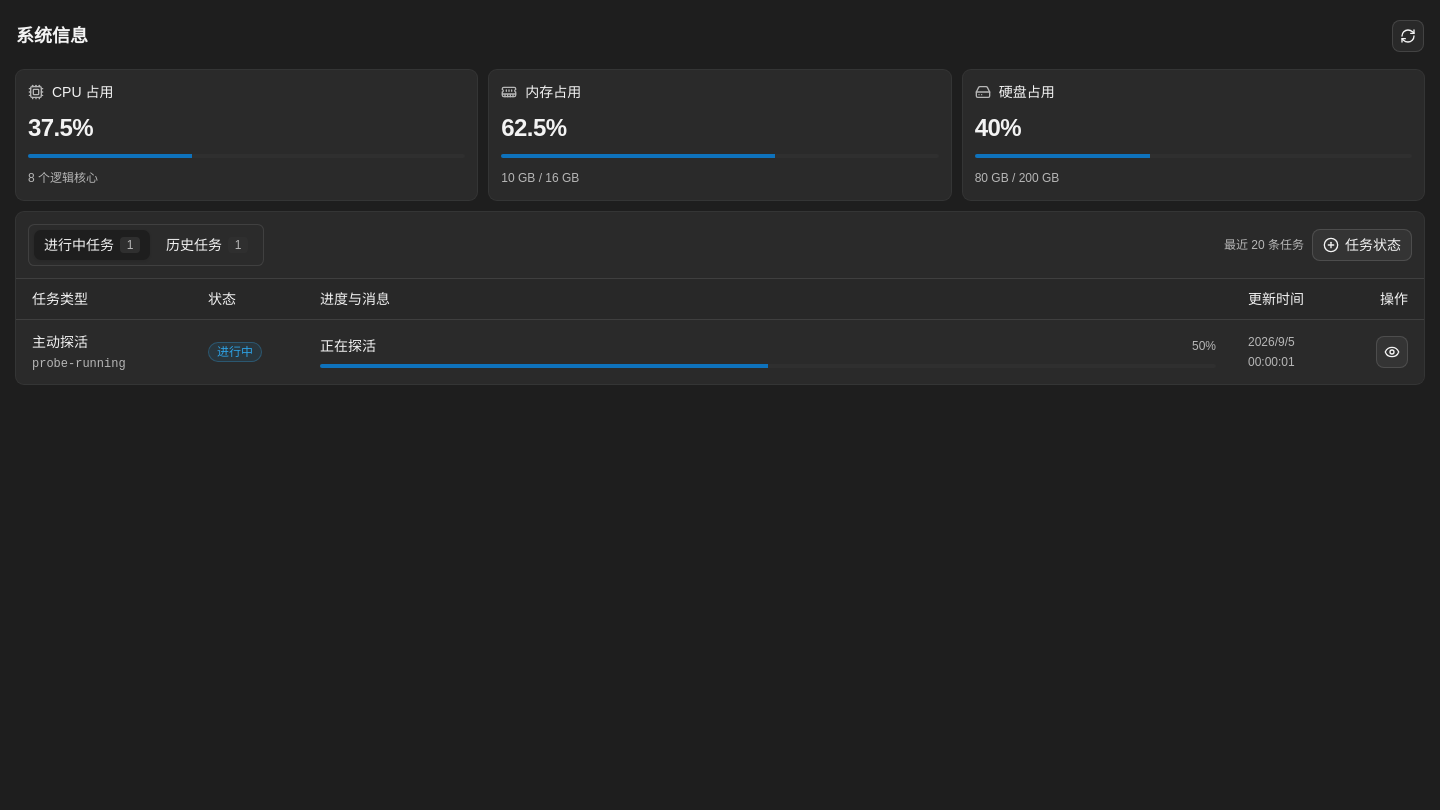
Test: 系统信息任务页面 › 可以查看平台模型探活的账号名称与分类结果
What coordinates should you click on to do the following:
click the tab "历史任务 1"
I would click on:
 (207, 245)
Its box is [155, 229, 259, 261].
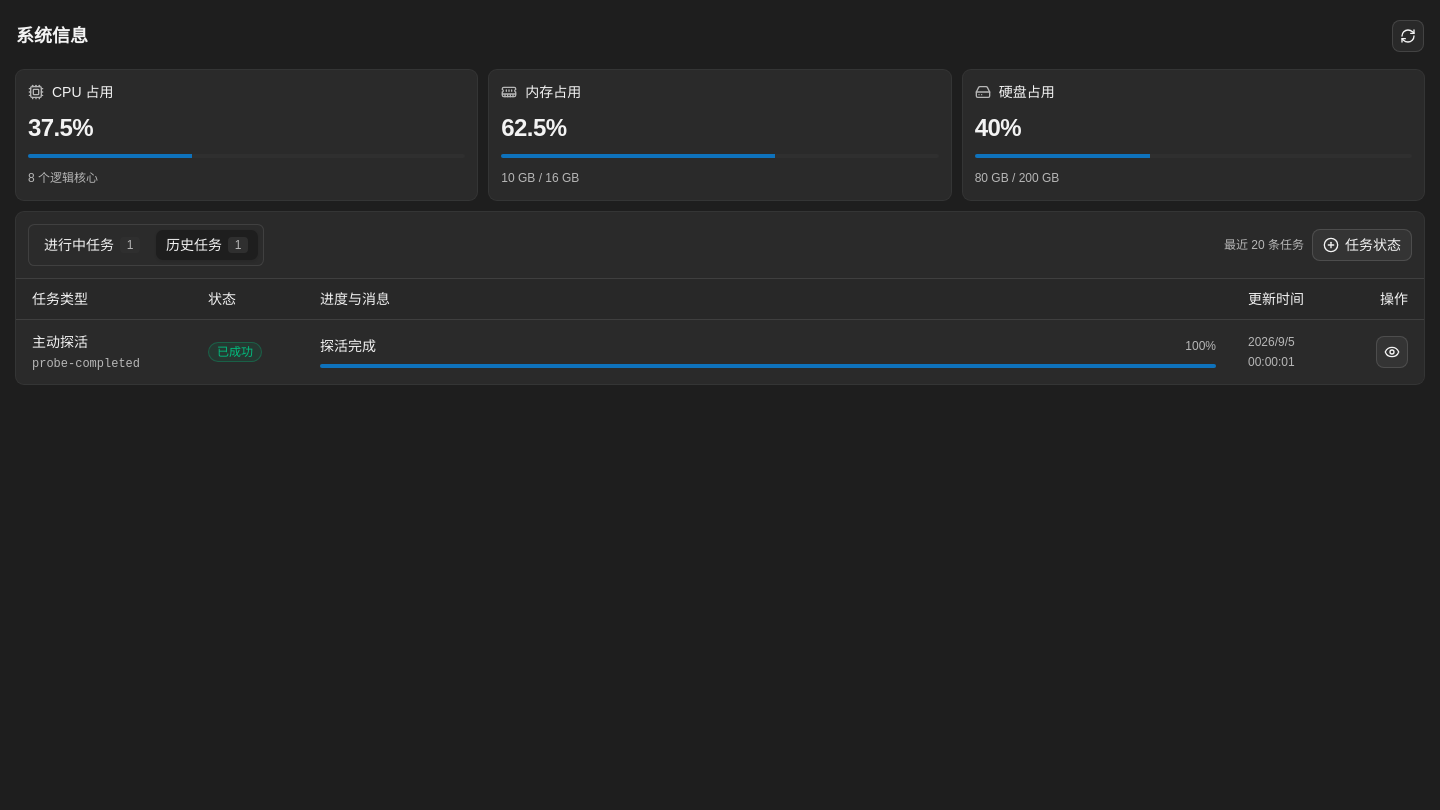
What coordinates should you click on to do the following:
click the button named "查看任务"
I would click on:
 (1392, 352)
Its box is [1376, 336, 1408, 368].
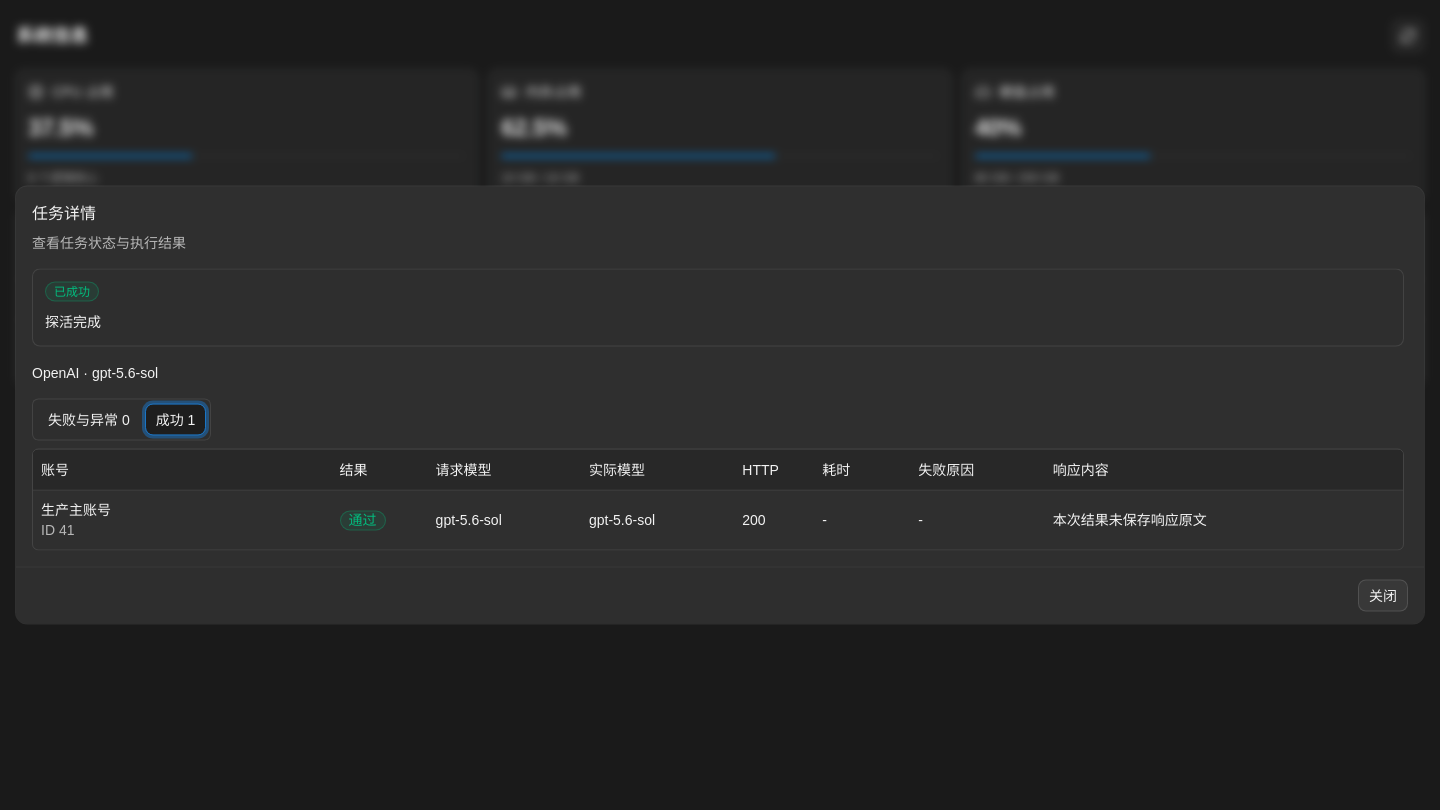
Expected: the dialog "任务详情" is shown, [16, 186, 1424, 624]
Expected: the text "OpenAI · gpt-5.6-sol" is shown, [32, 364, 158, 380]
Expected: the tab "成功 1" is shown, [145, 404, 206, 436]
